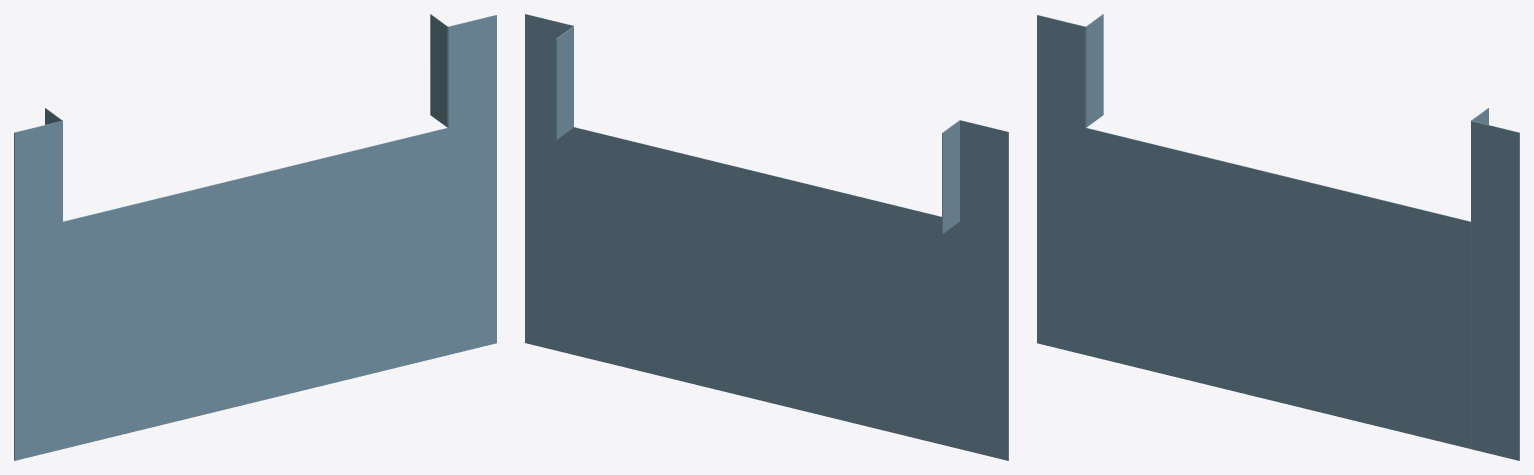
Rendered from wall-window-paint.glb.
3 views of the same model, side by side, from view 1: azimuth 30°, elevation 25°; view 2: azimuth 150°, elevation 25°; view 3: azimuth 330°, elevation 25° (orthographic).
Parts seen in each view (by area): view 1: wall-window-paint; view 2: wall-window-paint; view 3: wall-window-paint.
Boxes of the visible parts, x1=… form: wall-window-paint: x1=14, y1=14, x2=496, y2=460; wall-window-paint: x1=525, y1=14, x2=1008, y2=460; wall-window-paint: x1=1037, y1=14, x2=1519, y2=460.
Size of the model in its own units: 2 by 1.3 by 0.128.
